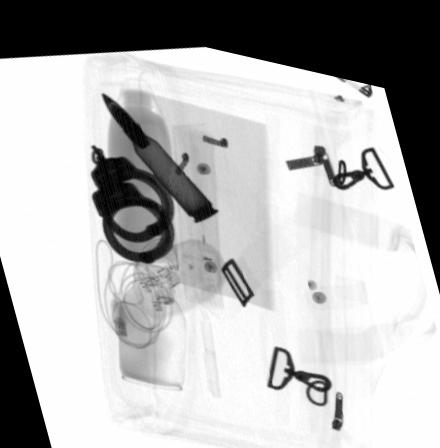Bullet: (100, 86, 219, 214)
HandCuffs: (85, 139, 174, 258)
